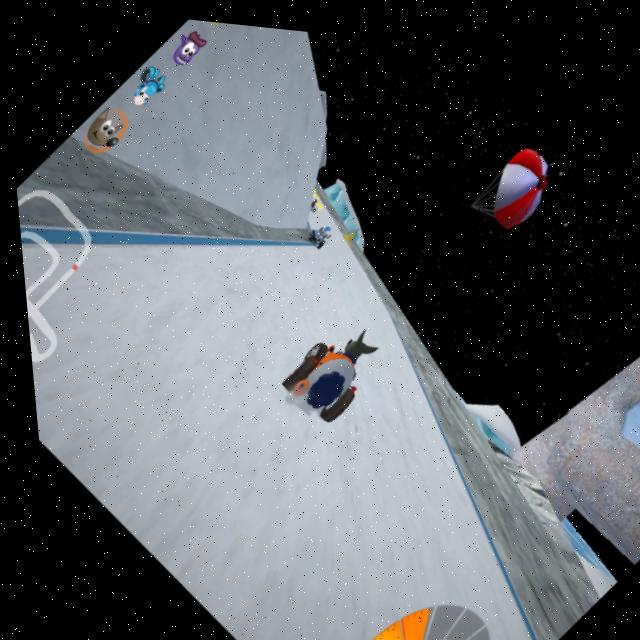enemy_kart: (296, 213, 333, 249)
obstacle: (331, 212, 360, 243)
player_kart: (259, 296, 396, 434)
